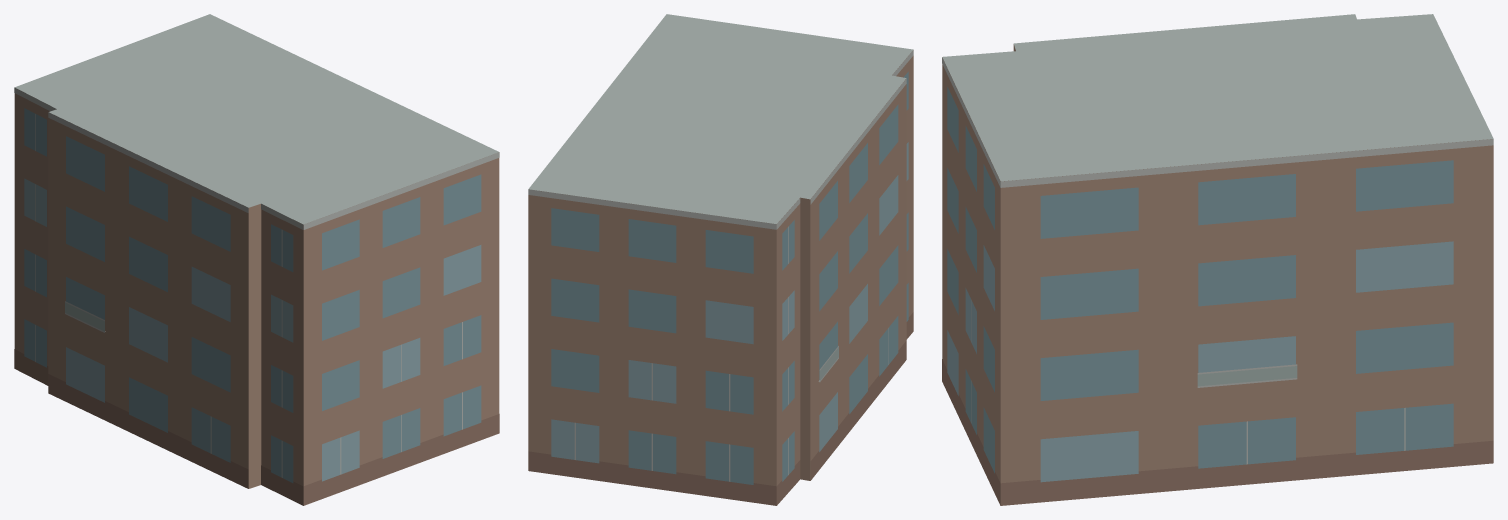
File: survey-upis-32698484.glb
3 renders of one model, left to right at view 1: azimuth 30°, elevation 25°; view 2: azimuth 150°, elevation 25°; view 3: azimuth 270°, elevation 25°, orthographic. The views are drawn at different scales.
Visible parts, largest first — view 1: survey-upis-32698484.tmp; view 2: survey-upis-32698484.tmp; view 3: survey-upis-32698484.tmp.
Part boxes in pixels (x1,y1,x2,y2): survey-upis-32698484.tmp: (14,14,499,505); survey-upis-32698484.tmp: (528,14,913,505); survey-upis-32698484.tmp: (942,14,1493,505).
Bounding box in the file's own units: 13.51 × 12.2 × 18.81.
